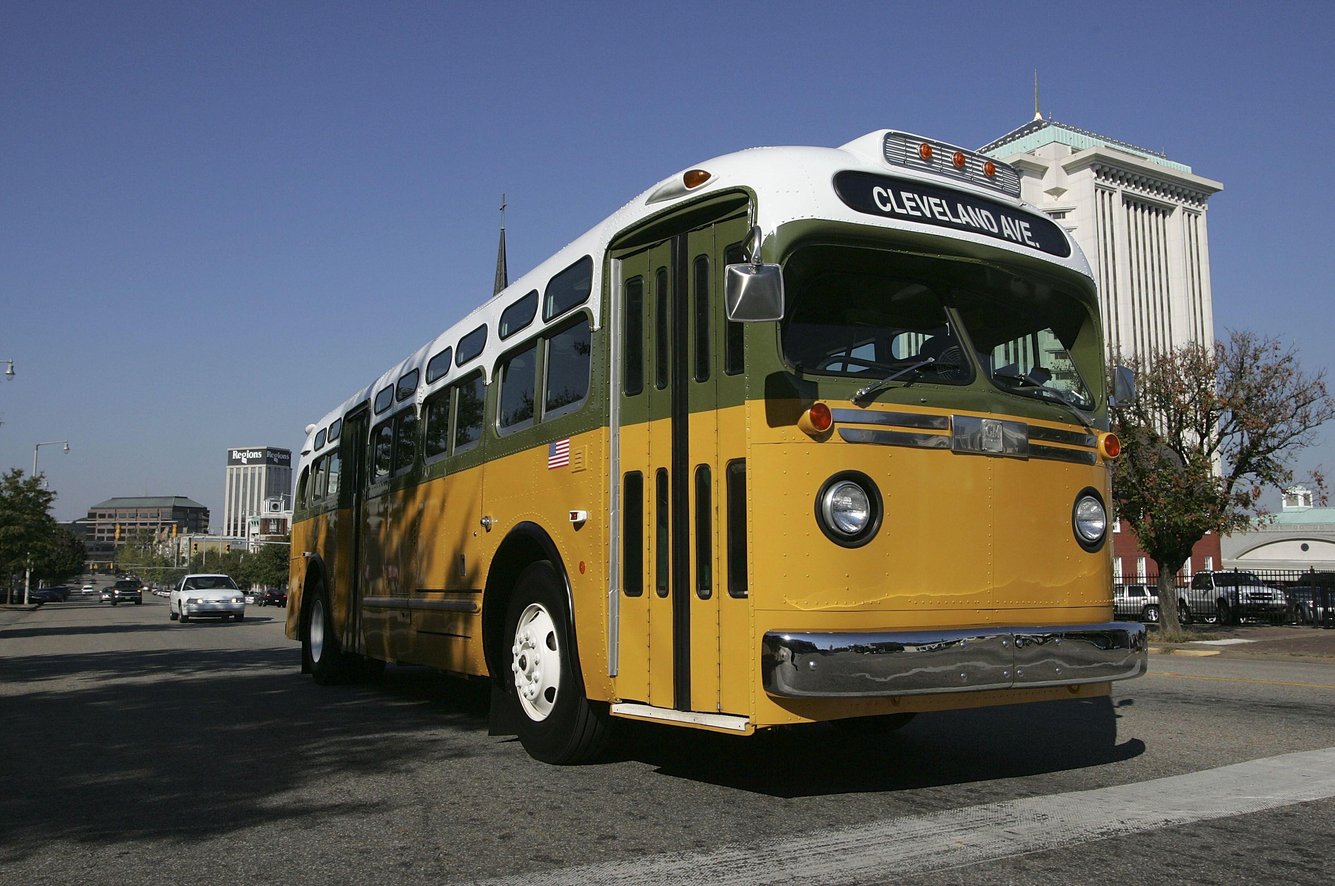Bus: (281, 131, 1156, 766)
